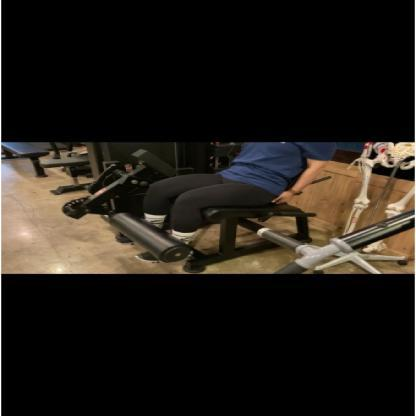leg extension: (56, 139, 411, 277)
